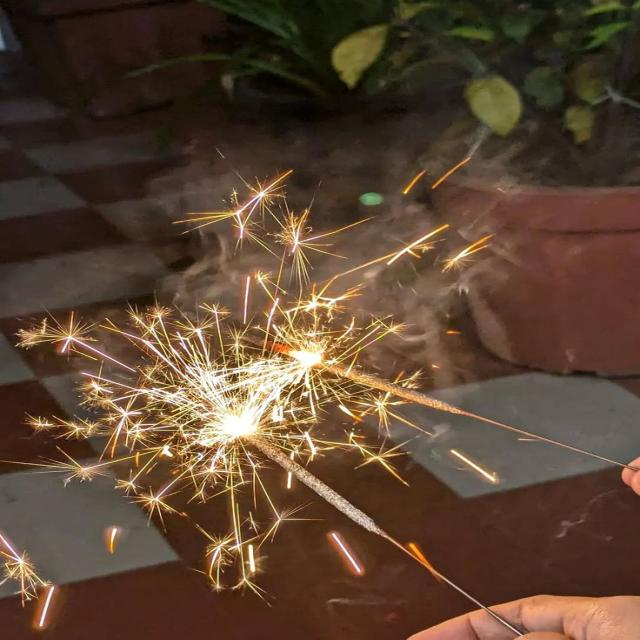fire: (200, 407, 263, 445)
